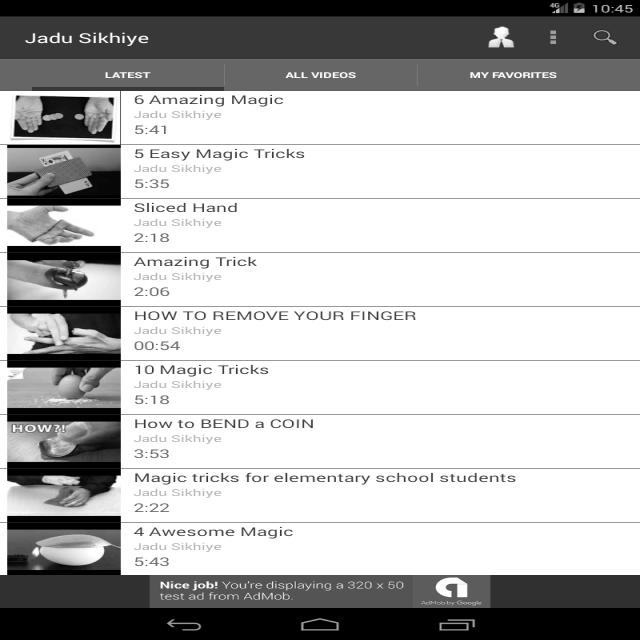ImageButton: (480, 22, 527, 52), (586, 26, 626, 56), (542, 24, 566, 50)
ImageView: (8, 149, 118, 571), (15, 95, 111, 139), (425, 579, 483, 603)
TextView: (127, 306, 429, 323), (18, 28, 157, 50), (130, 91, 290, 109), (128, 415, 318, 429), (154, 581, 408, 591), (133, 161, 230, 179), (133, 483, 229, 499), (461, 66, 558, 80), (126, 337, 190, 355), (103, 63, 155, 81), (127, 553, 185, 569), (129, 121, 177, 137)
